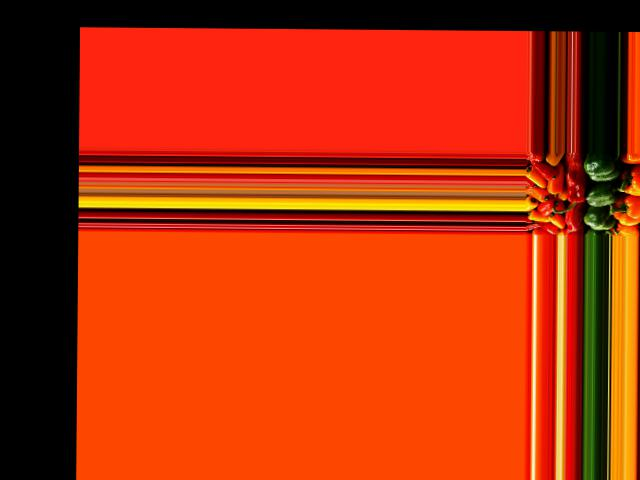bell_pepper: (529, 158, 557, 181)
